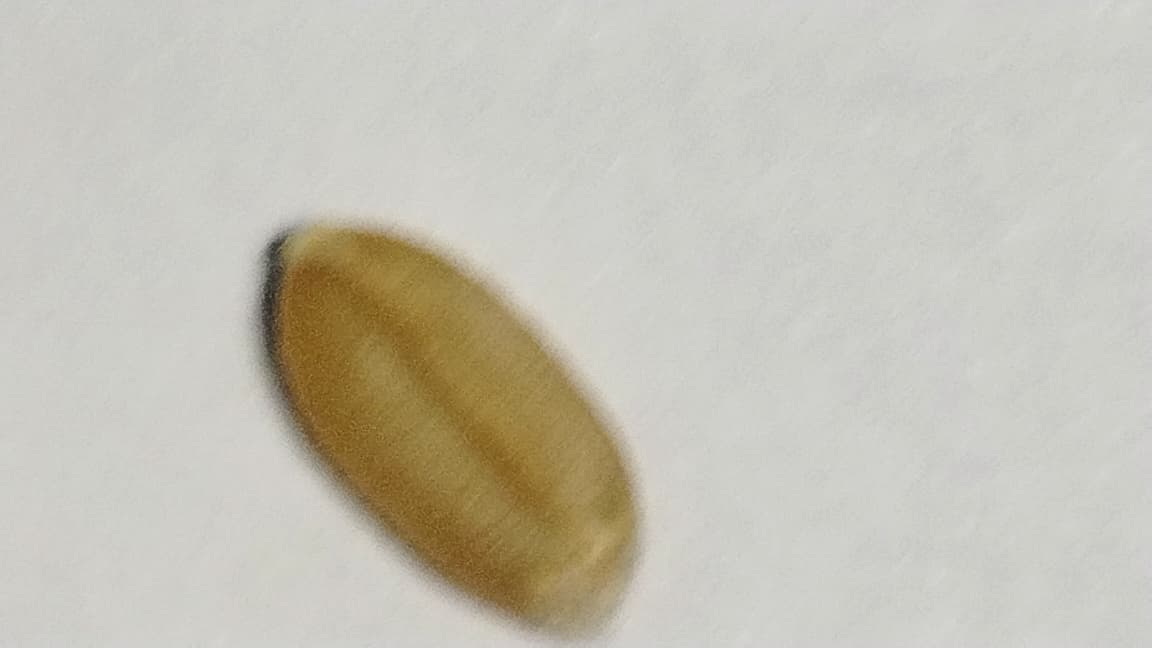healthy: (266, 215, 639, 631)
